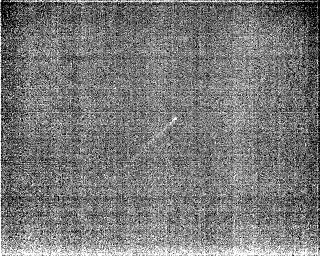AIRPLANE: (131, 115, 178, 156)
